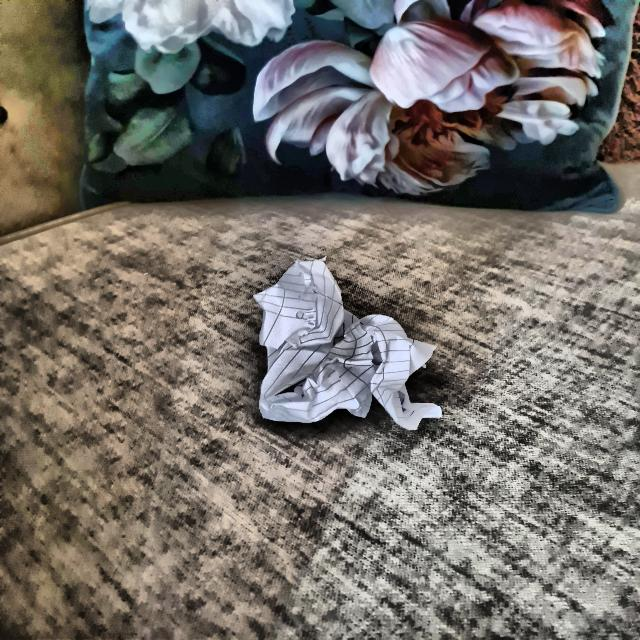Paper: (248, 256, 441, 432)
